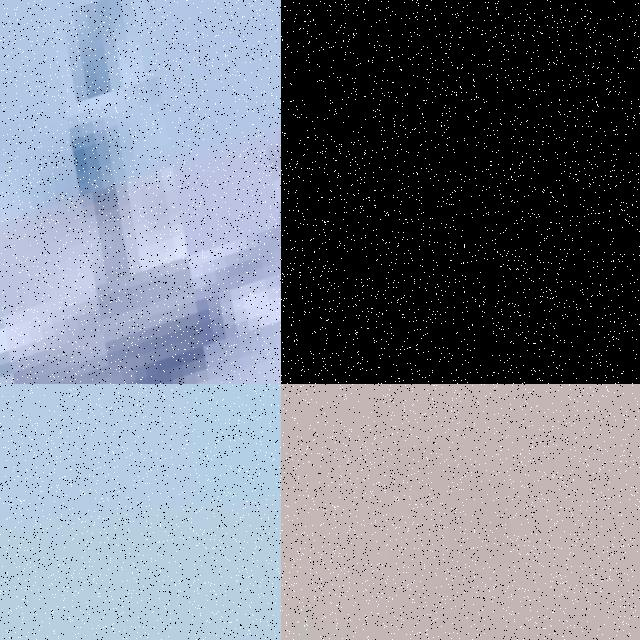drone: (0, 0, 281, 384)
